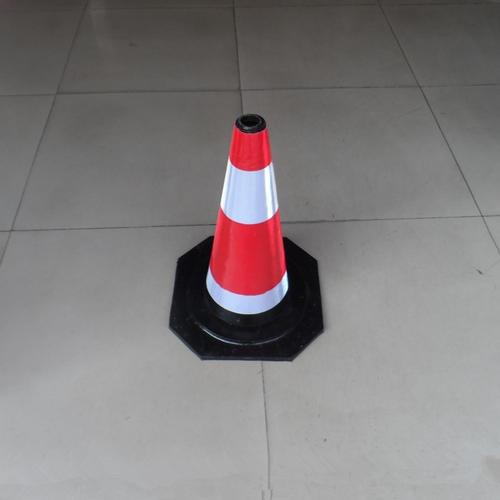cone_barrel: (181, 112, 307, 338)
